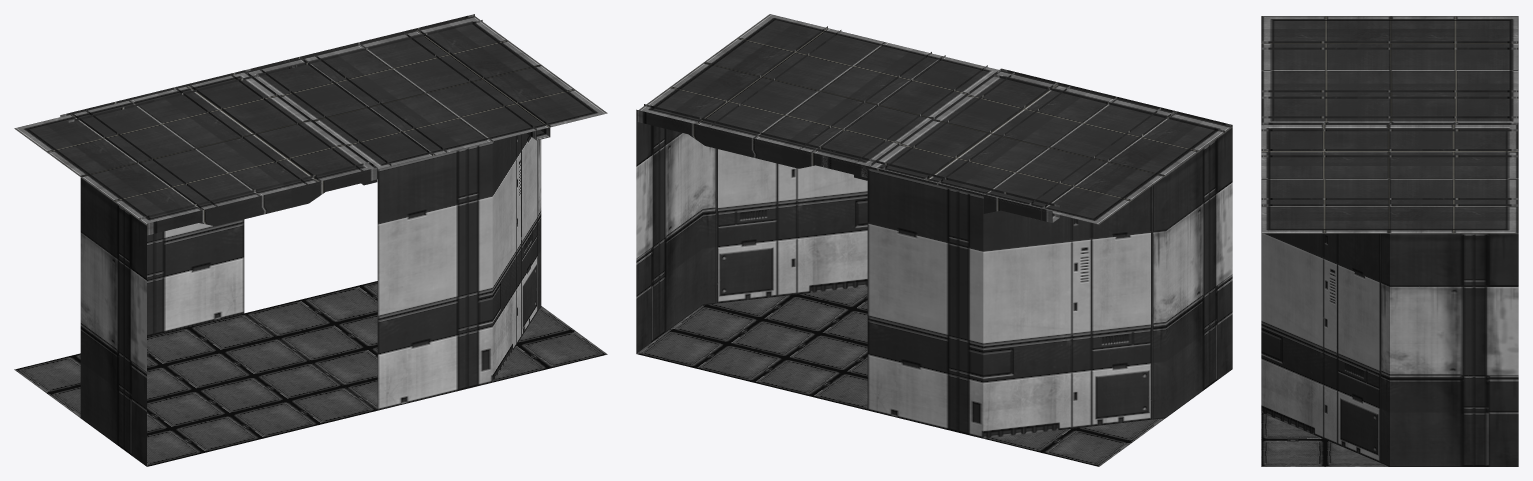
The model's file is CorridorWallDiagonal1.fbx.
3 renders of one model, left to right at view 1: azimuth 30°, elevation 25°; view 2: azimuth 150°, elevation 25°; view 3: azimuth 270°, elevation 25°, orthographic. The views are drawn at different scales.
Parts seen in each view (by area): view 1: CorridorWallDiagonal; view 2: CorridorWallDiagonal; view 3: CorridorWallDiagonal.
Boxes of the visible parts, left/top/right/bottom form: CorridorWallDiagonal: left=14, top=14, right=607, bottom=466; CorridorWallDiagonal: left=636, top=14, right=1232, bottom=466; CorridorWallDiagonal: left=1261, top=16, right=1518, bottom=466.
Bounding box in the file's own units: 10 × 5.04 × 5.
